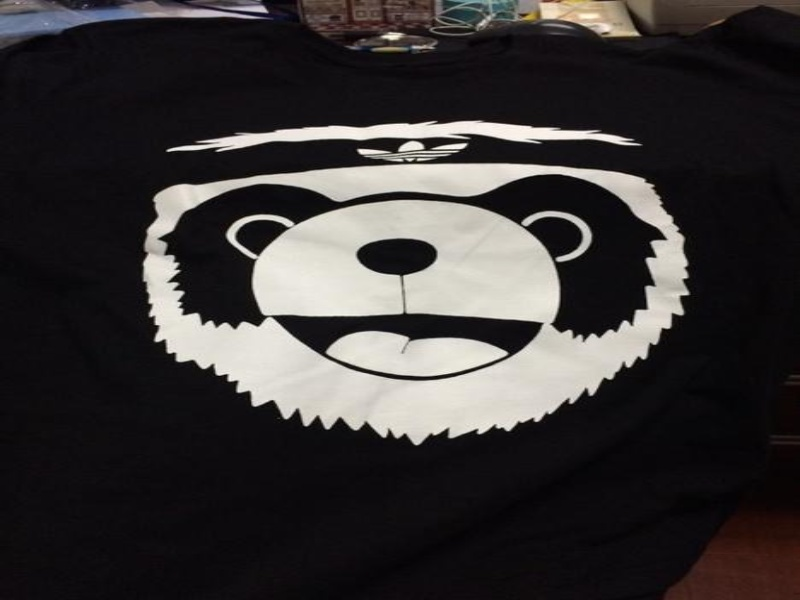short_sleeved_shirt: (0, 4, 797, 599)
